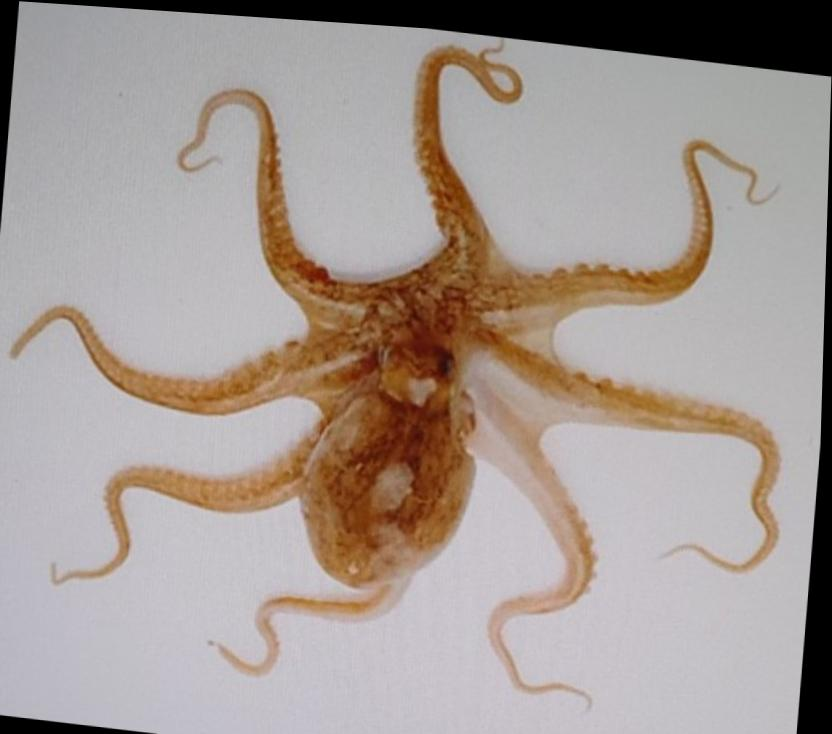Cephalopod: (13, 32, 786, 696)
